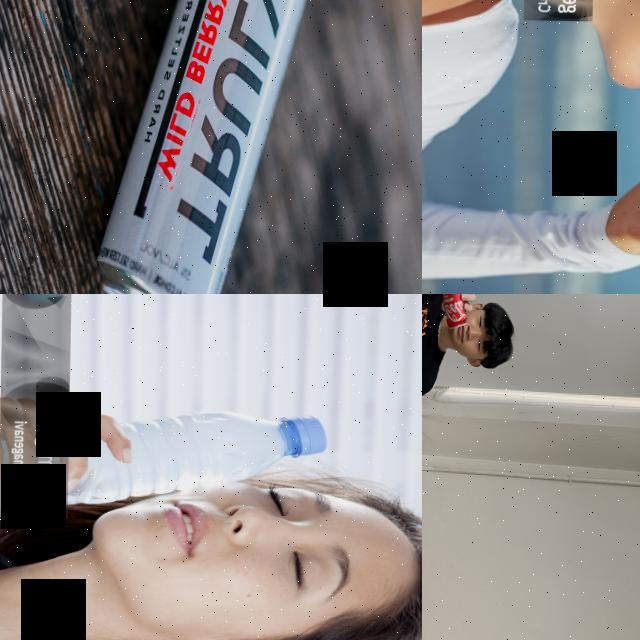bottle: (0, 405, 327, 528)
can: (95, 0, 331, 294), (435, 294, 468, 329)
